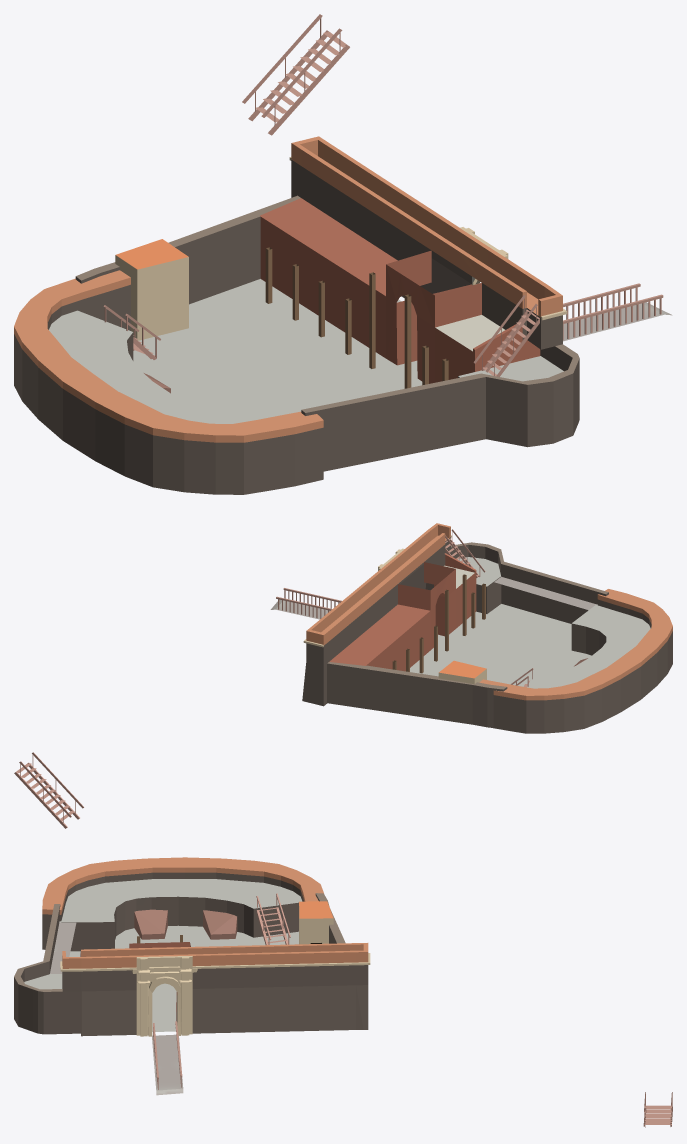
The model's file is FORTE.dae.
3 views of the same model, one above another, from view 1: azimuth 30°, elevation 25°; view 2: azimuth 150°, elevation 25°; view 3: azimuth 270°, elevation 25° (orthographic). The views are drawn at different scales.
Parts seen in each view (by area): view 1: ForteDoPresepio; view 2: ForteDoPresepio; view 3: ForteDoPresepio.
Part boxes in pixels (bbox=[...]): ForteDoPresepio: bbox=[14, 14, 672, 494]; ForteDoPresepio: bbox=[14, 523, 672, 828]; ForteDoPresepio: bbox=[14, 857, 672, 1127].
Size of the model in its own units: 10.28 by 13.78 by 2.91.
